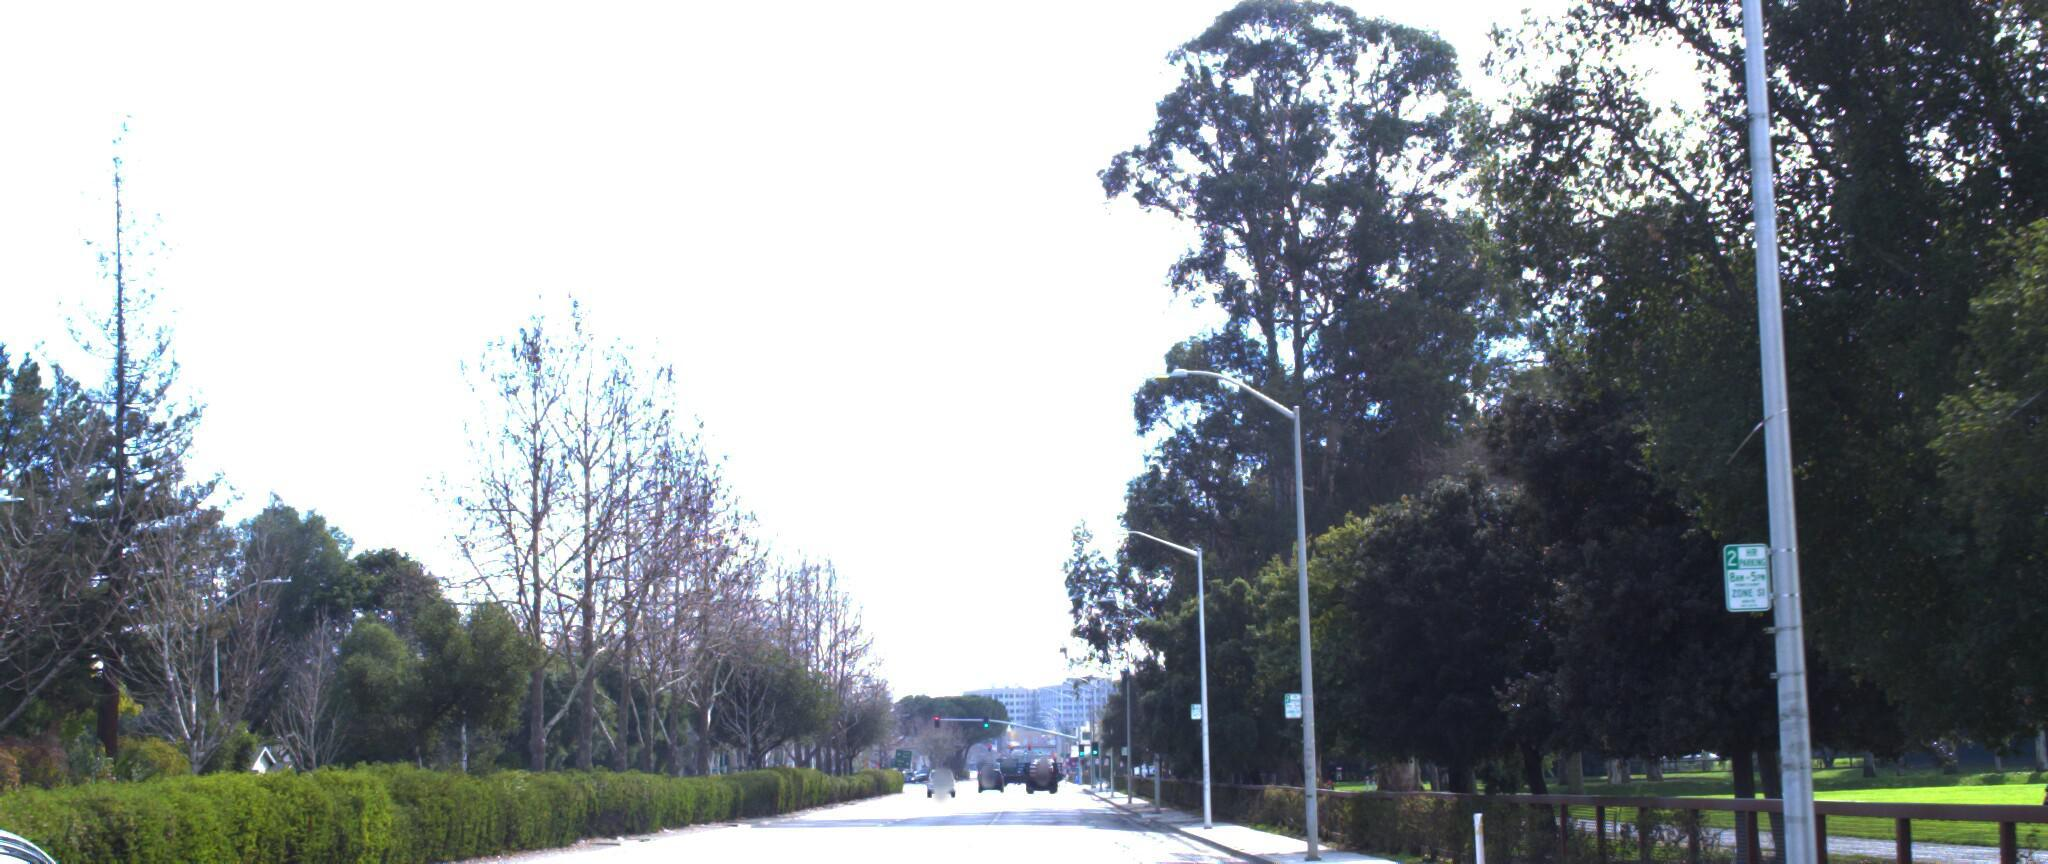car: (0, 784, 261, 864)
